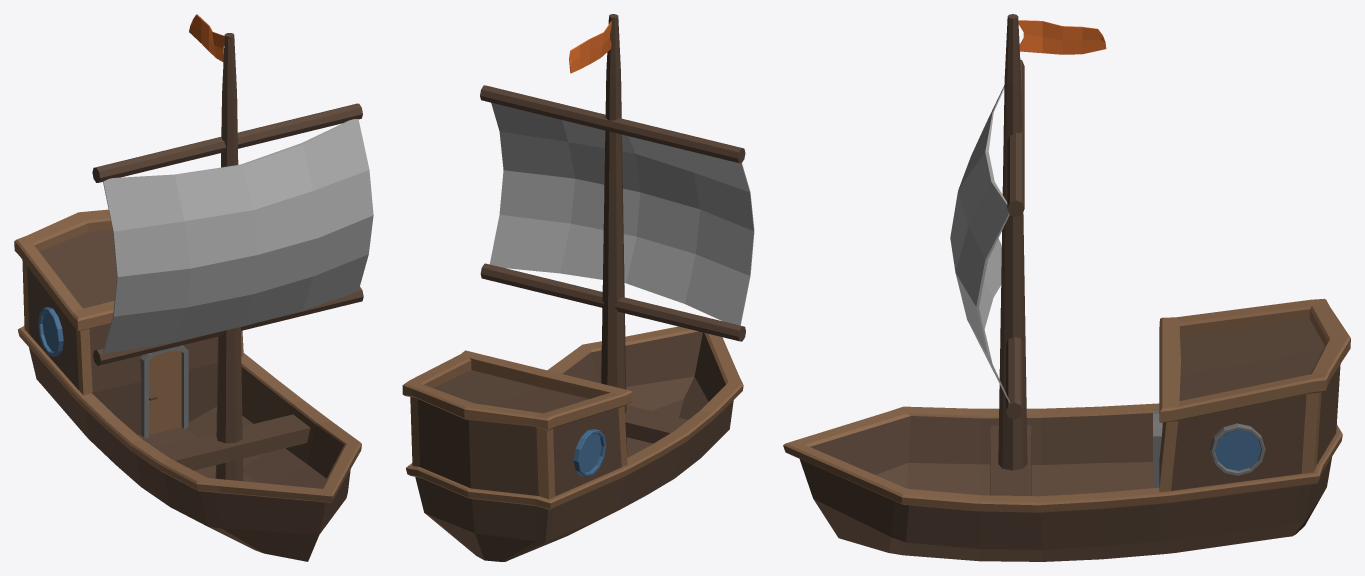
File: barco.fbx
The picture shows the model from 3 angles, left to right: view 1: azimuth 30°, elevation 25°; view 2: azimuth 150°, elevation 25°; view 3: azimuth 270°, elevation 25°; orthographic projection. The views are drawn at different scales.
Visible parts, largest first — view 1: Barco, Vela, Mastil, Puerta, Ventana, vanderita; view 2: Barco, Vela, Mastil, Ventana, vanderita; view 3: Barco, Mastil, Vela, vanderita, Ventana.
Boxes of the visible parts, x1,y1,x2,y2 form: Barco: (14, 209, 361, 561); Vela: (103, 119, 373, 352); Mastil: (92, 33, 363, 481); Puerta: (140, 345, 188, 437); Ventana: (38, 307, 63, 356); vanderita: (189, 14, 224, 62); Barco: (402, 326, 743, 561); Vela: (489, 102, 754, 325); Mastil: (480, 14, 745, 454); Ventana: (573, 429, 606, 476); vanderita: (569, 21, 611, 73); Barco: (783, 298, 1350, 561); Mastil: (998, 14, 1027, 470); Vela: (950, 86, 1010, 402); vanderita: (1018, 20, 1106, 54); Ventana: (1209, 423, 1265, 475).
Size of the model in its own units: 574 by 994 by 966.
